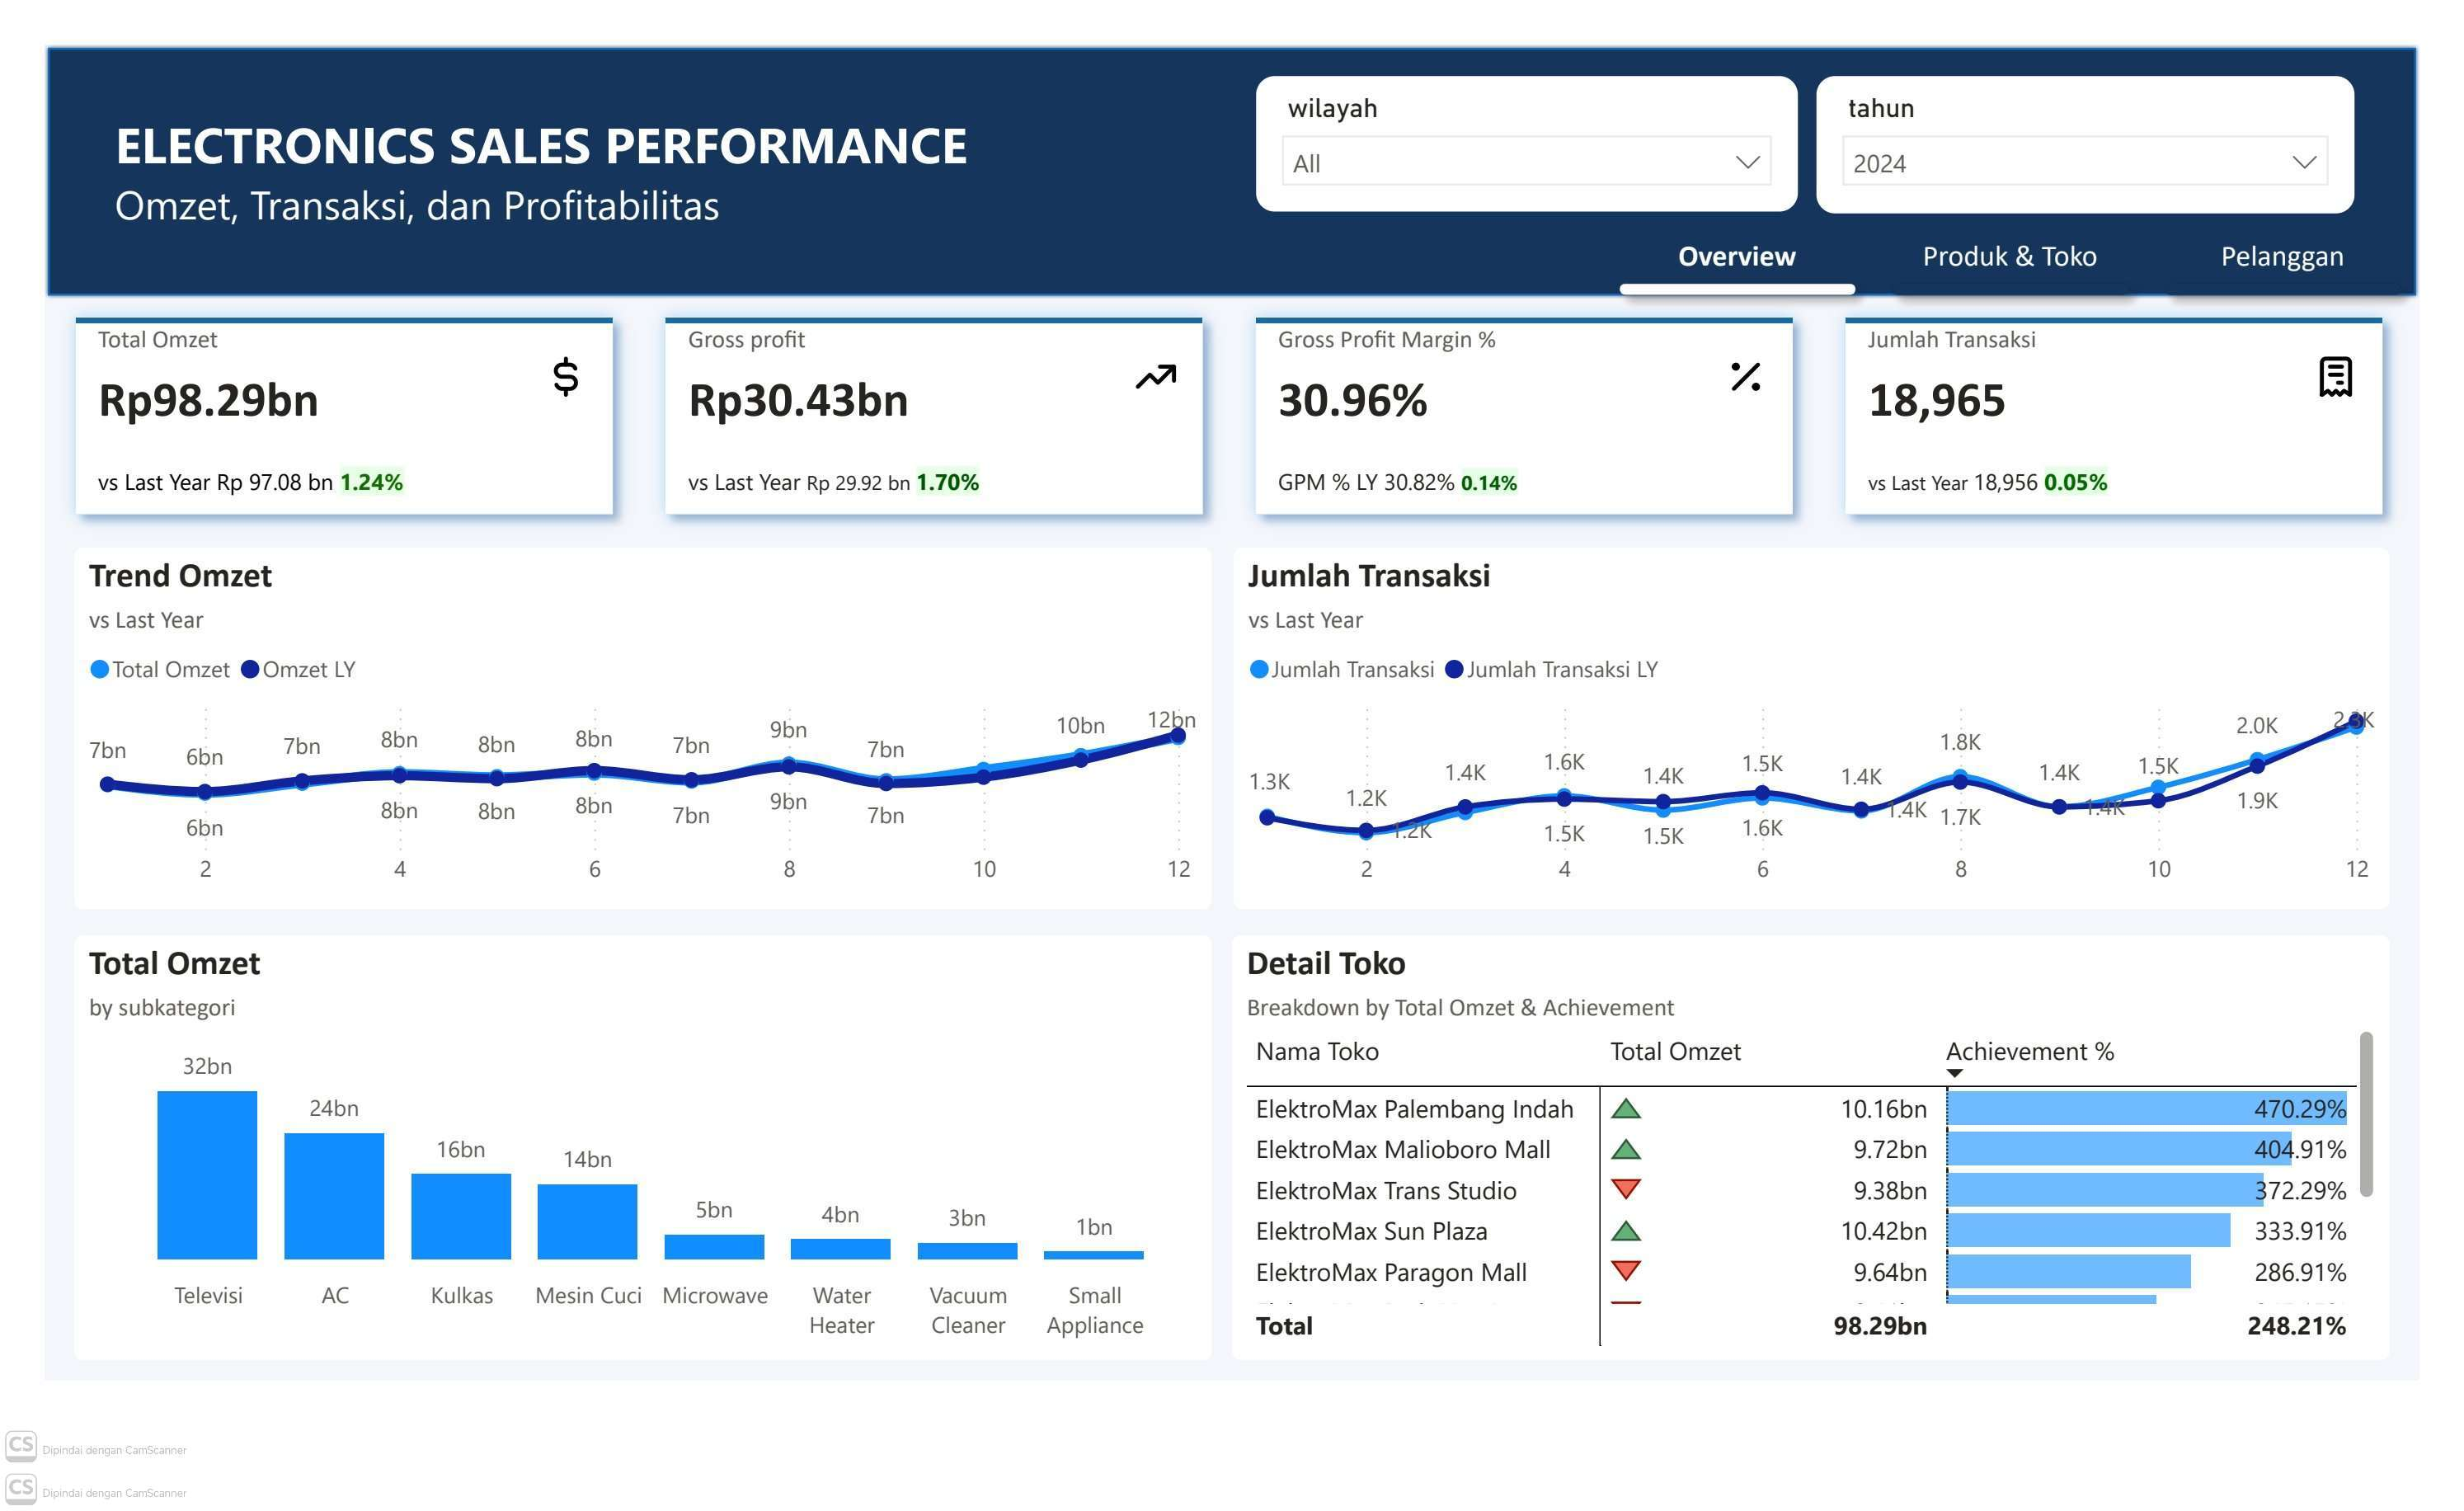

The dashboard page shown, as its layout file describes it:
{"tool":"powerbi","page":{"name":"Overview","canvas":[1280,720],"ordinal":0},"visuals":[{"type":"shape","box":[0,0,1280.2,137.2],"z":0},{"type":"lineChart","title":"Trend Omzet","fields":{"Category":["DIM_WAKTU.tahun Hierarchy.nomor_bulan"],"Y":["_MEASURE.Total Omzet","_MEASURE.Omzet LY"]},"box":[16.2,270.8,612.5,195],"z":1000},{"type":"columnChart","title":"Total Omzet","fields":{"Category":["DIM_PRODUK.subkategori"],"Y":["_MEASURE.Total Omzet"]},"box":[16.4,479.6,612.1,229.3],"z":2000},{"type":"cardVisual","fields":{"Data":["_MEASURE.Total Omzet","_MEASURE.Gross profit","_MEASURE.GPM %","_MEASURE.Jumlah Transaksi"]},"box":[0,130.3,1280,140],"z":3000},{"type":"slicer","fields":{"Values":["DIM_WAKTU.tahun"]},"box":[954.7,17.3,290.7,73.3],"z":4000},{"type":"slicer","fields":{"Values":["DIM_TOKO.wilayah"]},"box":[653.5,17.1,291.5,73.1],"z":5000},{"type":"textbox","box":[32.6,30.2,608.1,76.7],"z":6000},{"type":"pivotTable","title":"Detail Toko","fields":{"Rows":["DIM_TOKO.nama_toko"],"Values":["_MEASURE.Total Omzet","_MEASURE.Achievement %"]},"box":[640,479.6,623.6,229.3],"z":7000},{"type":"lineChart","title":"Jumlah Transaksi","fields":{"Category":["DIM_WAKTU.tahun Hierarchy.nomor_bulan"],"Y":["_MEASURE.Jumlah Transaksi","_MEASURE.Jumlah Transaksi LY"]},"box":[641.2,270.8,622.5,195],"z":8000},{"type":"pageNavigator","box":[840,91.2,440,43.8],"z":9000,"group":"g1"},{"type":"pageNavigator","box":[840,120,440,24.3],"z":10000,"group":"g1"},{"type":"group","id":"g1","title":"Group 1","box":[840,91.2,440,53],"z":10001}]}

Visuals, with their boxes on the page's 1280x720 design canvas (x1, y1, x2, y2). These are canvas units, not pixel positions in the 2464x1511 screenshot, which may show the page scaled, cropped or inside an application window:
shape: <region>0, 0, 1280, 137</region>
"Trend Omzet" lineChart: <region>16, 271, 629, 466</region>
"Total Omzet" columnChart: <region>16, 480, 628, 709</region>
cardVisual - _MEASURE.Total Omzet x _MEASURE.Gross profit: <region>0, 130, 1280, 270</region>
slicer - DIM_WAKTU.tahun: <region>955, 17, 1245, 91</region>
slicer - DIM_TOKO.wilayah: <region>654, 17, 945, 90</region>
textbox: <region>33, 30, 641, 107</region>
"Detail Toko" pivotTable: <region>640, 480, 1264, 709</region>
"Jumlah Transaksi" lineChart: <region>641, 271, 1264, 466</region>
pageNavigator: <region>840, 91, 1280, 135</region>
pageNavigator: <region>840, 120, 1280, 144</region>
"Group 1" group: <region>840, 91, 1280, 144</region>
